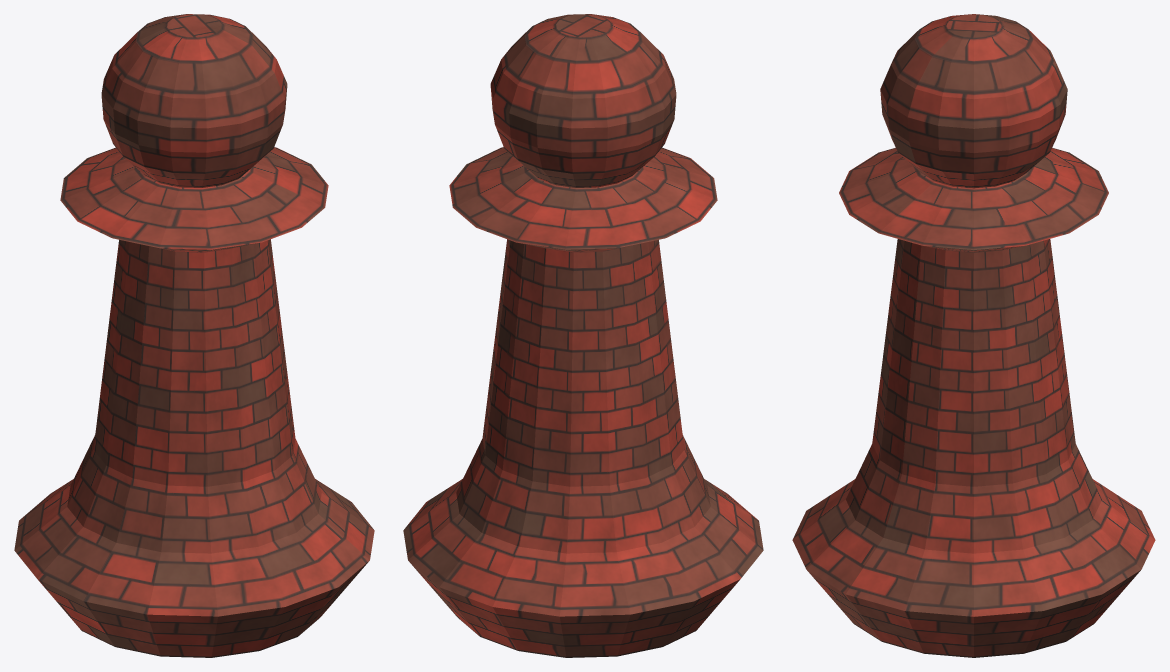
The model's file is RegularTower.fbx.
3 views of the same model, side by side, from view 1: azimuth 30°, elevation 25°; view 2: azimuth 150°, elevation 25°; view 3: azimuth 270°, elevation 25° (orthographic).
Visible parts, largest first — view 1: Cylinder; view 2: Cylinder; view 3: Cylinder.
Part boxes in pixels (x1=…): Cylinder: x1=14, y1=14, x2=374, y2=657; Cylinder: x1=403, y1=14, x2=763, y2=657; Cylinder: x1=792, y1=14, x2=1155, y2=657.
Bounding box in the file's own units: 221 × 387 × 221.
